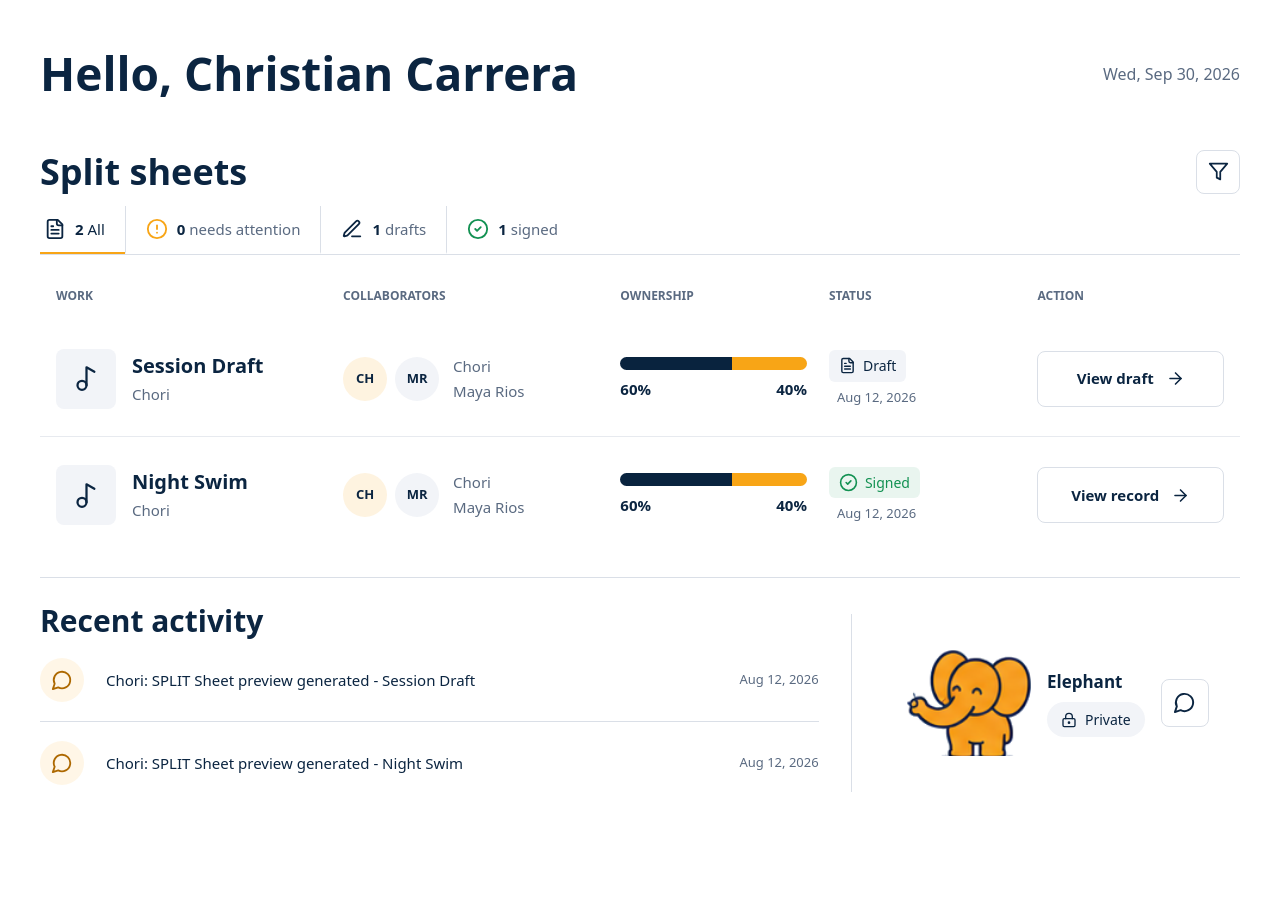
it: workspace overview controls › filters drafts directly and restores all records from the same row
Click the button "1 drafts" at coordinates (384, 230), box x1=321 y1=206 x2=447 y2=254
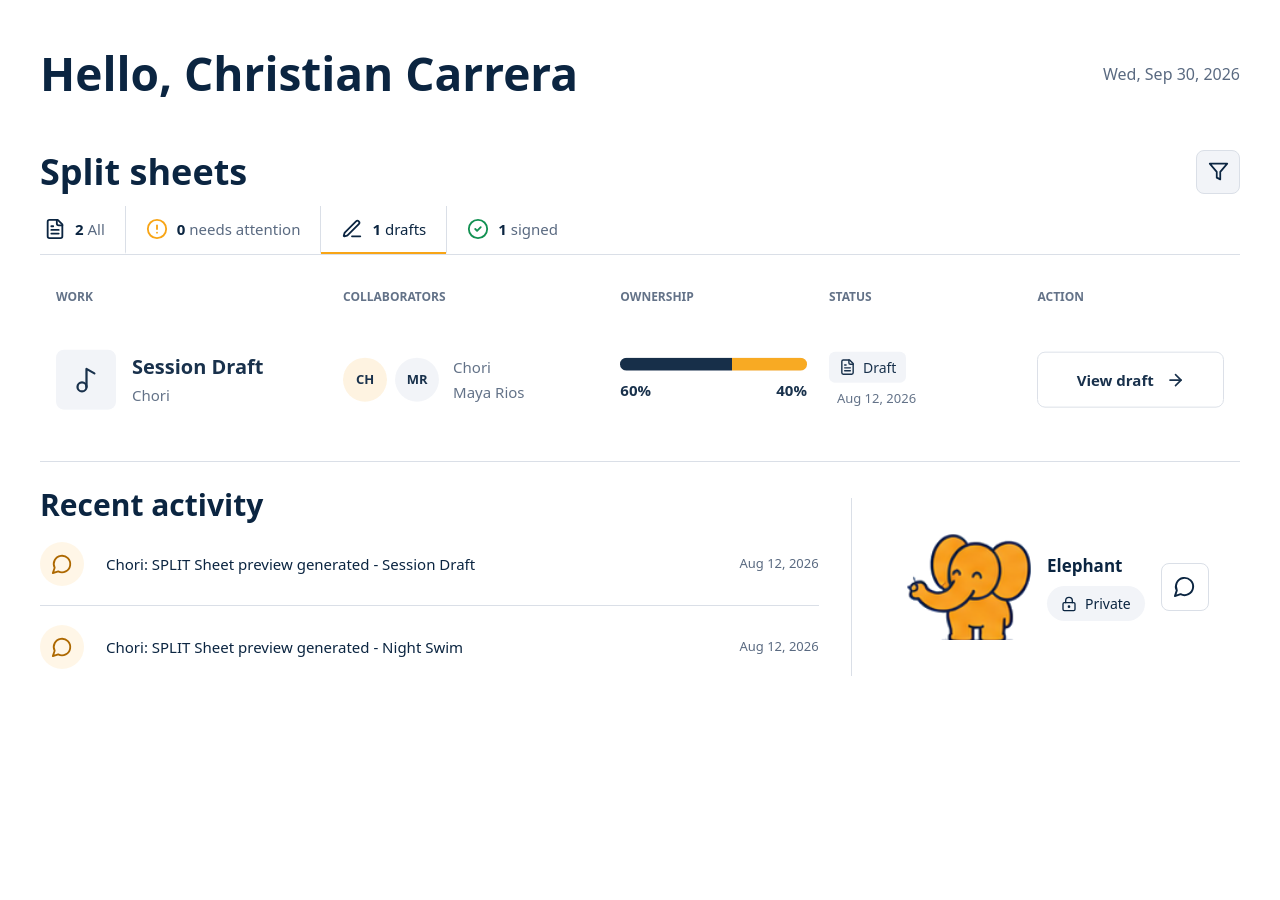
Check: the button "View draft" is shown, box x1=1038 y1=351 x2=1224 y2=407
Check: the button "View record" is gone
Click the button "2 All" at coordinates (83, 230), box x1=40 y1=206 x2=126 y2=254
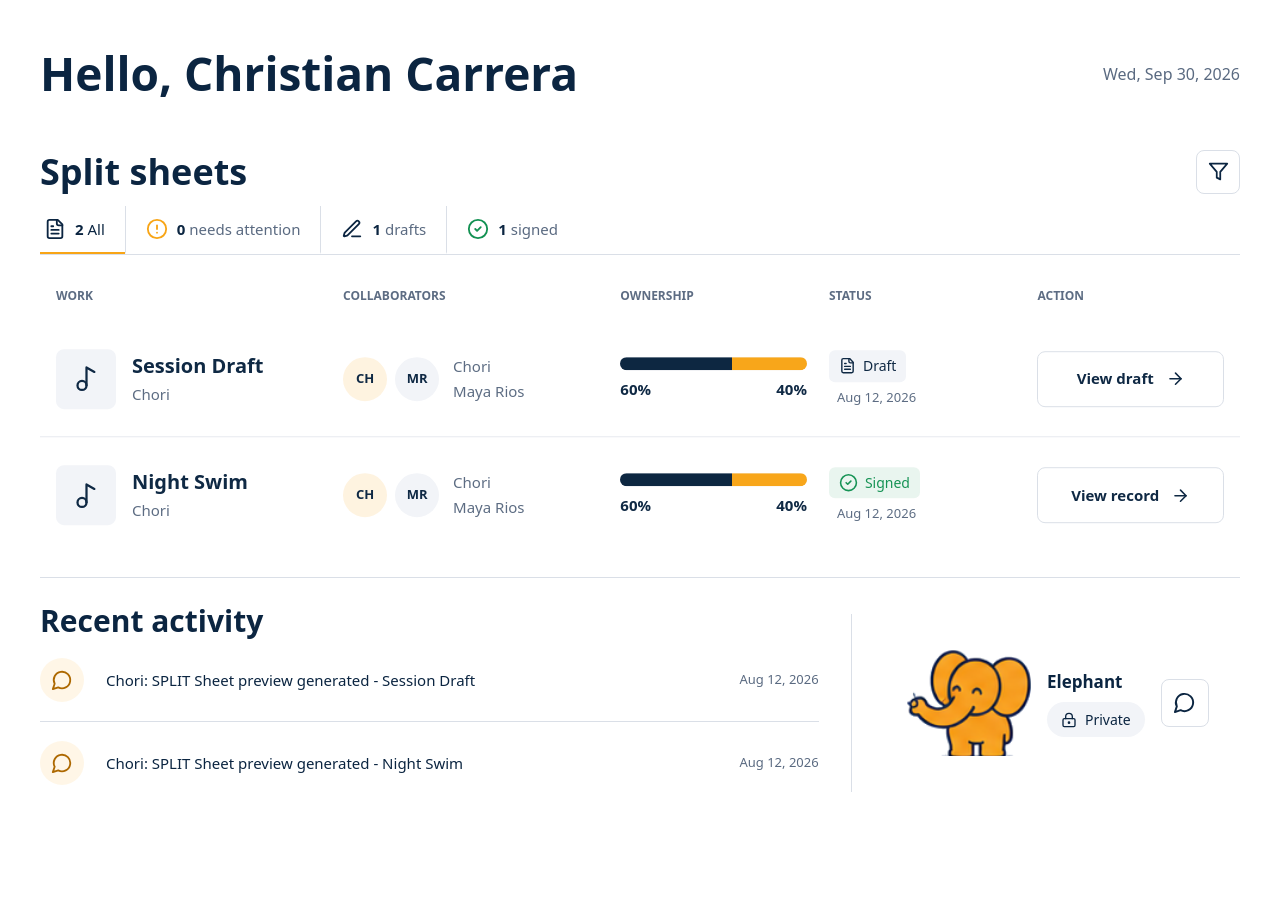
Check: the button "View record" is shown, box x1=1038 y1=467 x2=1224 y2=523
